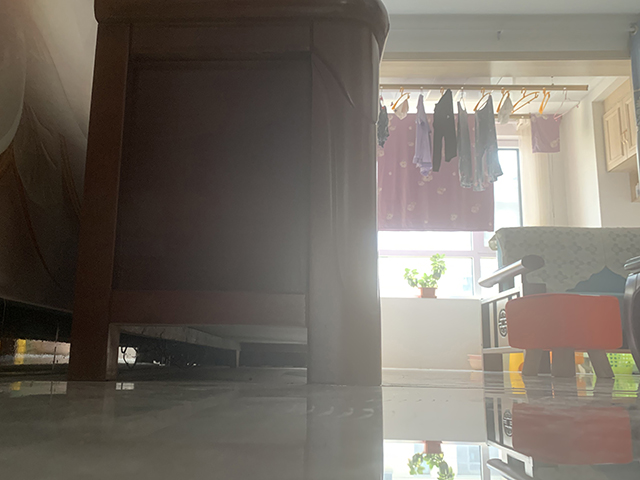cabinet: (64, 1, 391, 388)
sofa: (477, 226, 640, 374)
stool: (504, 293, 624, 376)
